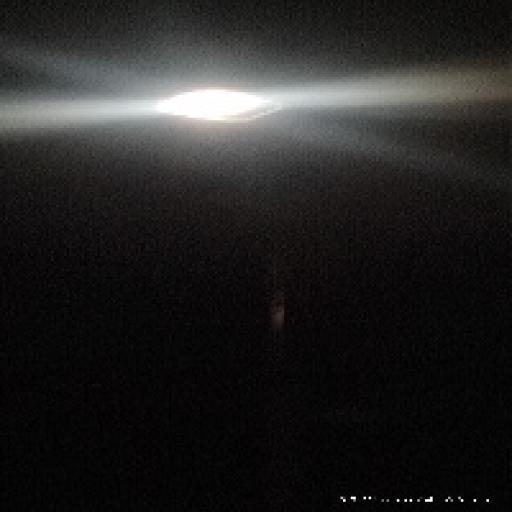Working: (140, 70, 292, 146)
